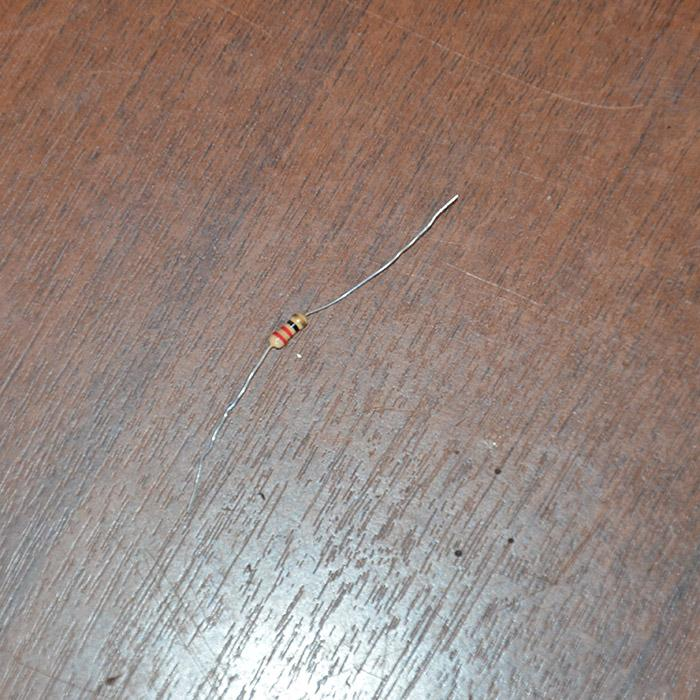resistor: (267, 311, 309, 349)
